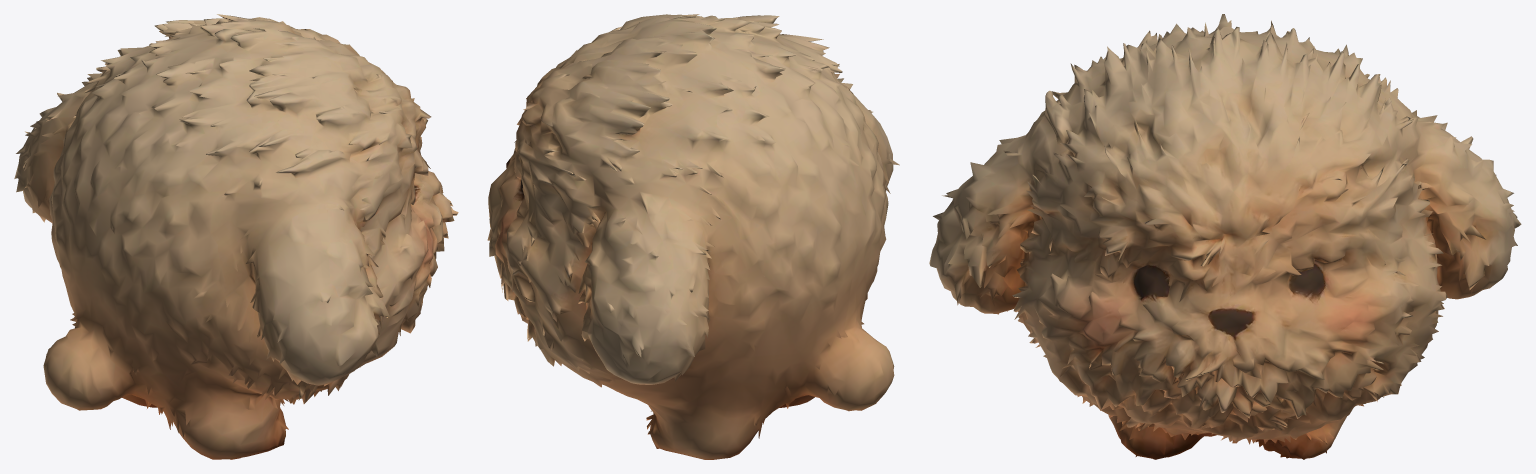
Rendered from head.glb.
The picture shows the model from 3 angles, left to right: view 1: azimuth 30°, elevation 25°; view 2: azimuth 150°, elevation 25°; view 3: azimuth 270°, elevation 25°; orthographic projection. The views are drawn at different scales.
Visible parts, largest first — view 1: tripo_node_3efb96ab-804f-45bd-a318-f75656338503; view 2: tripo_node_3efb96ab-804f-45bd-a318-f75656338503; view 3: tripo_node_3efb96ab-804f-45bd-a318-f75656338503.
Boxes of the visible parts, left/top/right/bottom form: tripo_node_3efb96ab-804f-45bd-a318-f75656338503: left=14, top=14, right=458, bottom=459; tripo_node_3efb96ab-804f-45bd-a318-f75656338503: left=487, top=14, right=899, bottom=459; tripo_node_3efb96ab-804f-45bd-a318-f75656338503: left=929, top=14, right=1521, bottom=459.
Bounding box in the file's own units: 0.8319 × 0.7991 × 1.
1 material, 1 textured.
